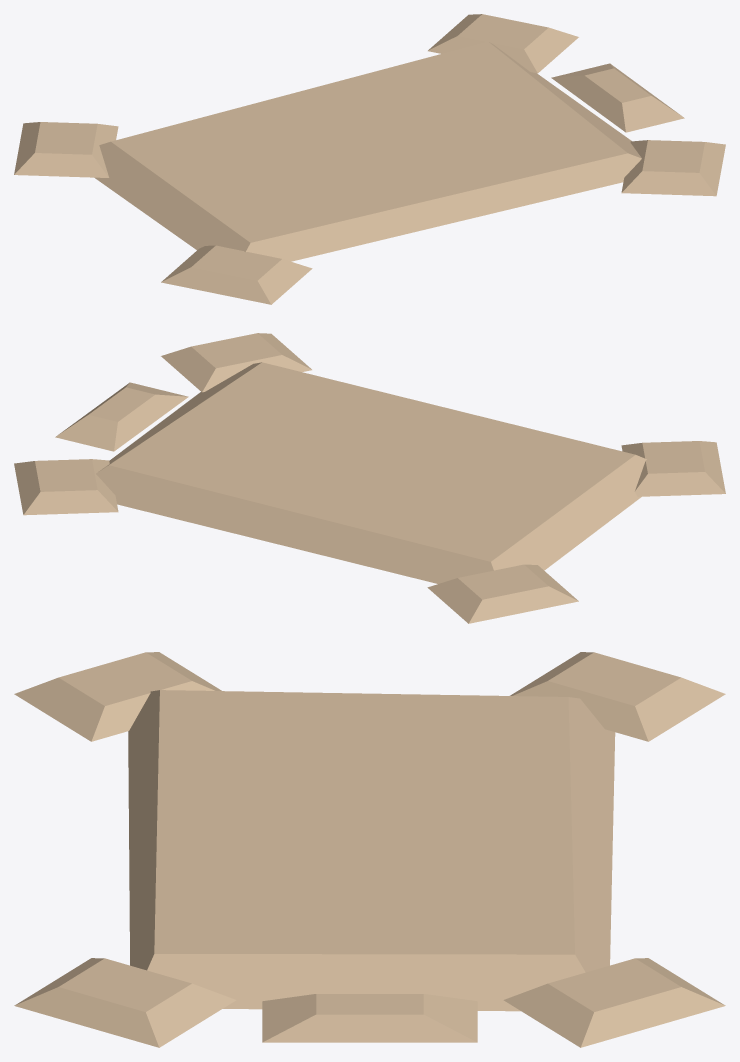
File: item_016_wolf_hide_s.glb
The picture shows the model from 3 angles, top to bottom: view 1: azimuth 30°, elevation 25°; view 2: azimuth 150°, elevation 25°; view 3: azimuth 270°, elevation 25°; orthographic projection. The views are drawn at different scales.
Visible parts, largest first — view 1: item_016_wolf_hide_s; view 2: item_016_wolf_hide_s; view 3: item_016_wolf_hide_s.
Boxes of the visible parts, x1=… form: item_016_wolf_hide_s: x1=14, y1=14, x2=725, y2=304; item_016_wolf_hide_s: x1=14, y1=333, x2=725, y2=623; item_016_wolf_hide_s: x1=14, y1=652, x2=725, y2=1047.
Size of the model in its own units: 0.9572 by 0.0414 by 0.7276.
